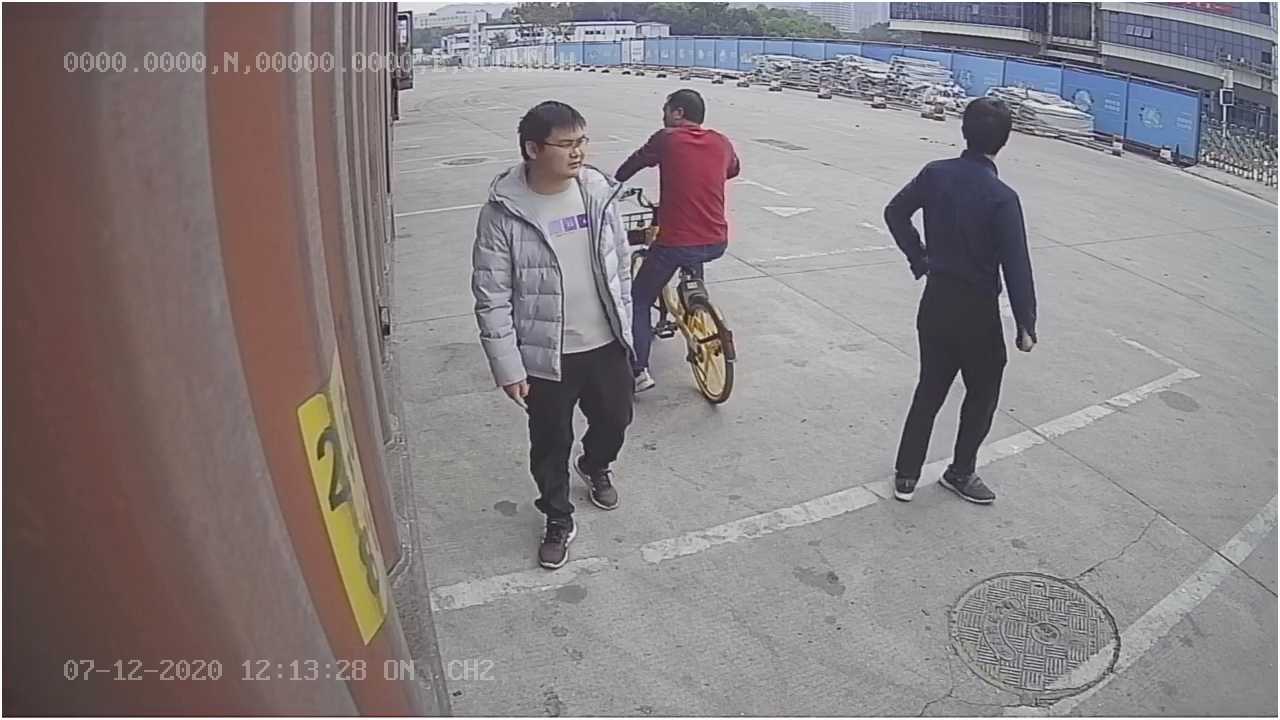person: (881, 92, 1041, 505)
